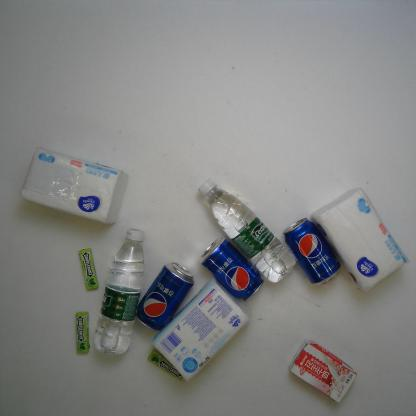Drink: (198, 180, 297, 283), (92, 226, 146, 356), (135, 260, 195, 334), (282, 216, 343, 288), (199, 236, 265, 302)
Gum: (147, 348, 183, 381), (77, 248, 100, 291), (75, 310, 90, 354)
Milk: (288, 338, 358, 403)
Tissue: (150, 274, 252, 383), (310, 186, 410, 292), (19, 146, 129, 226)
